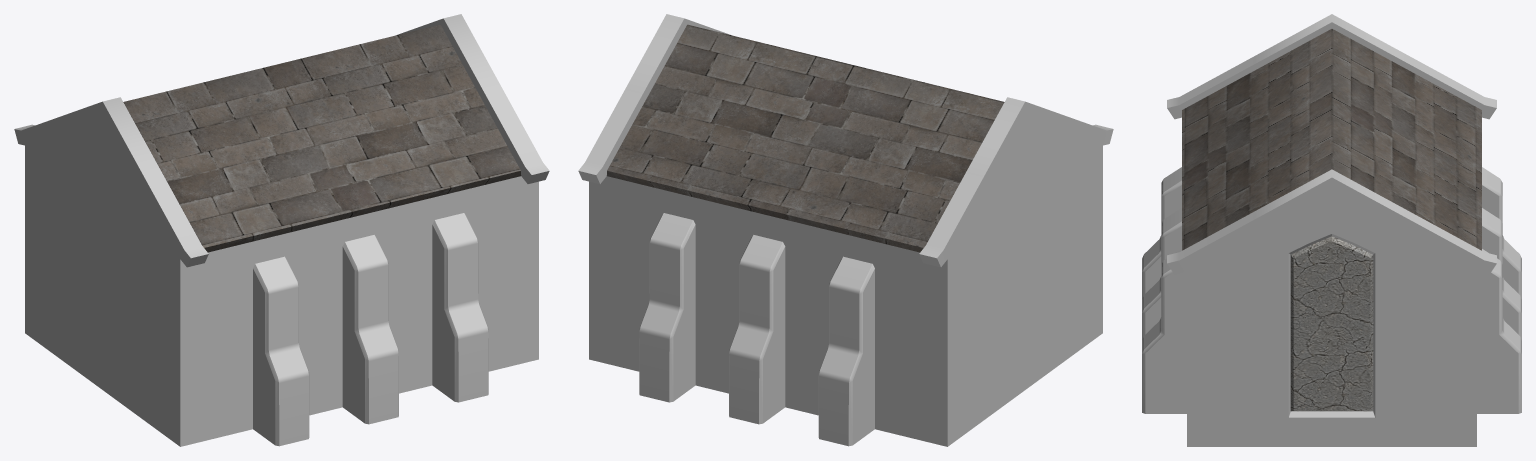
File: Mausoleum.fbx
The picture shows the model from 3 angles, left to right: view 1: azimuth 30°, elevation 25°; view 2: azimuth 150°, elevation 25°; view 3: azimuth 270°, elevation 25°; orthographic projection. The views are drawn at different scales.
Visible parts, largest first — view 1: Mauseleum; view 2: Mauseleum; view 3: Mauseleum.
Boxes of the visible parts, bbox=[...] form: Mauseleum: bbox=[14, 14, 549, 446]; Mauseleum: bbox=[578, 14, 1113, 446]; Mauseleum: bbox=[1142, 14, 1521, 446].
Bounding box in the file's own units: 40.04 × 30.75 × 39.28.
